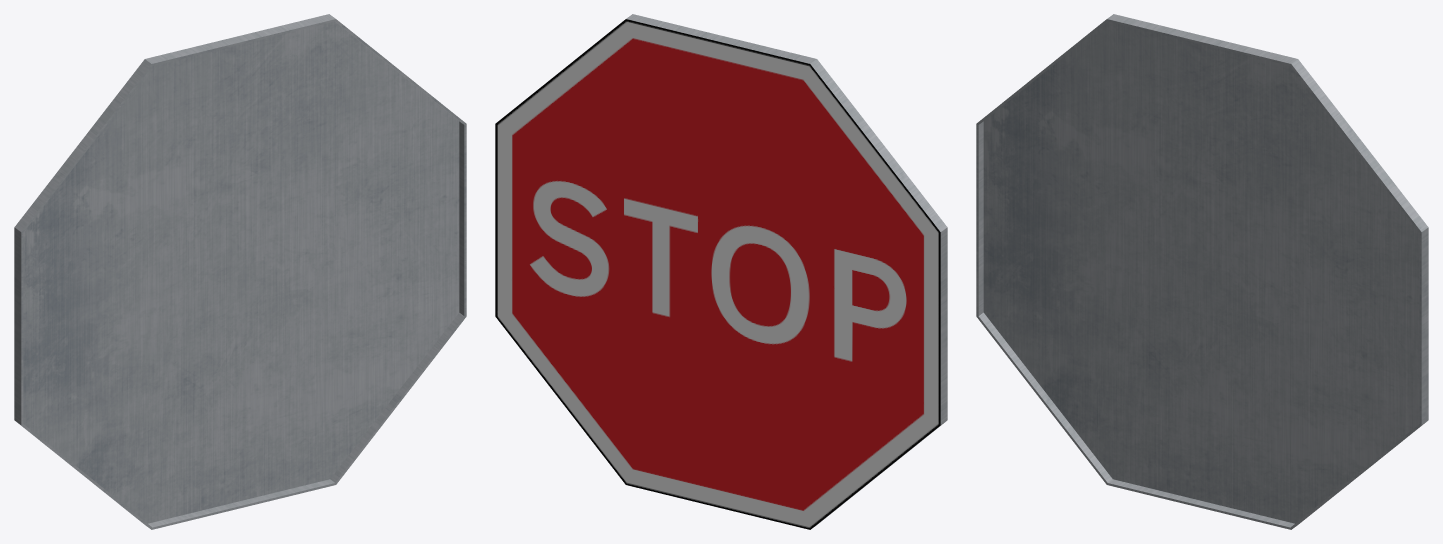
Rendered from Stop.fbx.
The picture shows the model from 3 angles, left to right: view 1: azimuth 30°, elevation 25°; view 2: azimuth 150°, elevation 25°; view 3: azimuth 330°, elevation 25°; orthographic projection.
Visible parts, largest first — view 1: Stop; view 2: Stop; view 3: Stop.
Boxes of the visible parts, x1,y1,x2,y2 form: Stop: (14,14,466,529); Stop: (495,14,947,529); Stop: (976,14,1428,529).
Size of the model in its own units: 0.02 by 0.75 by 0.75.
